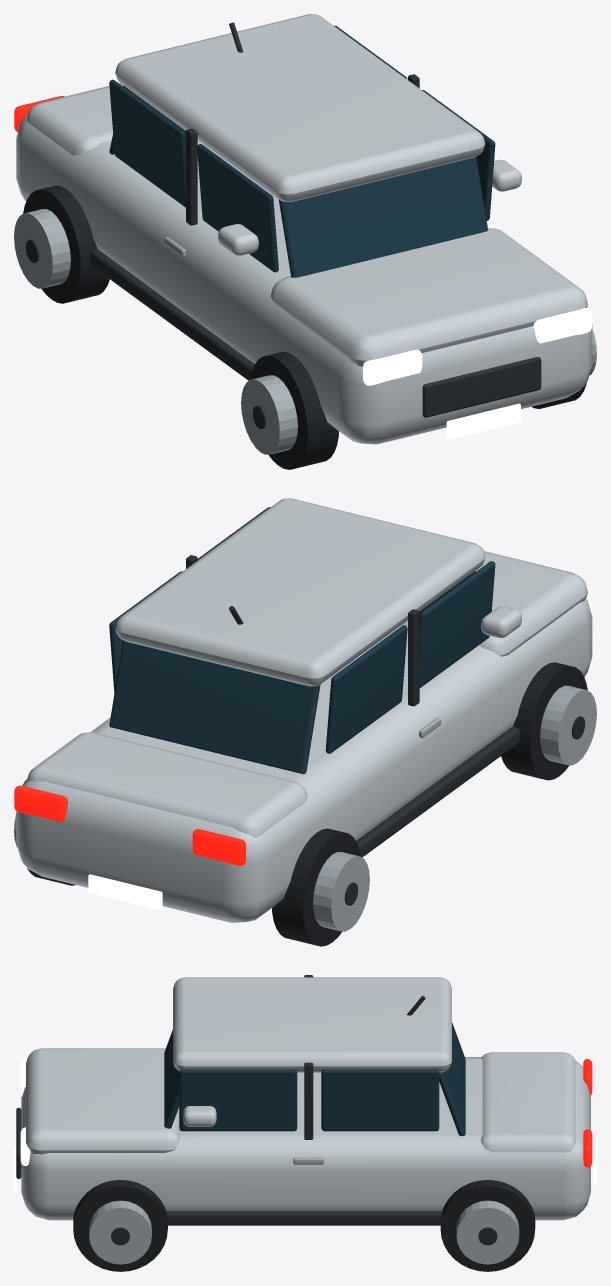
Rendered from hf-hybrid-sedan.glb.
3 views of the same model, one above another, from view 1: azimuth 30°, elevation 25°; view 2: azimuth 150°, elevation 25°; view 3: azimuth 270°, elevation 25° (orthographic). The views are drawn at different scales.
Visible parts, largest first — view 1: HERO_CAR_BODY, HERO_REAR_GLASS, HERO_ANTENNA, HERO_TYRE, HERO_FRONT_PLATE, HERO_TYRE.001, HERO_ALLOY_RIM, HERO_ALLOY_RIM.001; view 2: HERO_CAR_BODY, HERO_REAR_GLASS, HERO_ANTENNA, HERO_TYRE.001, HERO_TYRE, HERO_ALLOY_RIM, HERO_ALLOY_RIM.001, HERO_TAILLIGHT, HERO_FRONT_PLATE; view 3: HERO_CAR_BODY, HERO_REAR_GLASS, HERO_ANTENNA, HERO_TYRE.003, HERO_TYRE.002, HERO_ALLOY_RIM.003, HERO_ALLOY_RIM.002, HERO_FRONT_PLATE, HERO_TAILLIGHT.
Part boxes in pixels (bbox=[...]): HERO_CAR_BODY: bbox=[16, 14, 592, 444]; HERO_REAR_GLASS: bbox=[109, 25, 495, 277]; HERO_ANTENNA: bbox=[90, 22, 541, 417]; HERO_TYRE: bbox=[250, 351, 338, 469]; HERO_FRONT_PLATE: bbox=[363, 308, 591, 439]; HERO_TYRE.001: bbox=[23, 185, 109, 303]; HERO_ALLOY_RIM: bbox=[241, 375, 297, 454]; HERO_ALLOY_RIM.001: bbox=[14, 209, 70, 288]; HERO_CAR_BODY: bbox=[16, 498, 592, 922]; HERO_REAR_GLASS: bbox=[109, 507, 495, 774]; HERO_ANTENNA: bbox=[186, 555, 519, 857]; HERO_TYRE.001: bbox=[272, 828, 360, 946]; HERO_TYRE: bbox=[501, 662, 587, 780]; HERO_ALLOY_RIM: bbox=[540, 685, 596, 765]; HERO_ALLOY_RIM.001: bbox=[313, 852, 369, 931]; HERO_TAILLIGHT: bbox=[14, 785, 245, 865]; HERO_FRONT_PLATE: bbox=[88, 585, 591, 910]; HERO_CAR_BODY: bbox=[21, 977, 590, 1220]; HERO_REAR_GLASS: bbox=[164, 1022, 465, 1136]; HERO_ANTENNA: bbox=[16, 975, 442, 1225]; HERO_TYRE.003: bbox=[440, 1180, 535, 1271]; HERO_TYRE.002: bbox=[73, 1180, 167, 1271]; HERO_ALLOY_RIM.003: bbox=[456, 1200, 519, 1264]; HERO_ALLOY_RIM.002: bbox=[89, 1200, 151, 1264]; HERO_FRONT_PLATE: bbox=[14, 1060, 596, 1191]; HERO_TAILLIGHT: bbox=[583, 1059, 592, 1167].
Size of the model in its own units: 2.34 by 1.9 by 4.56.
